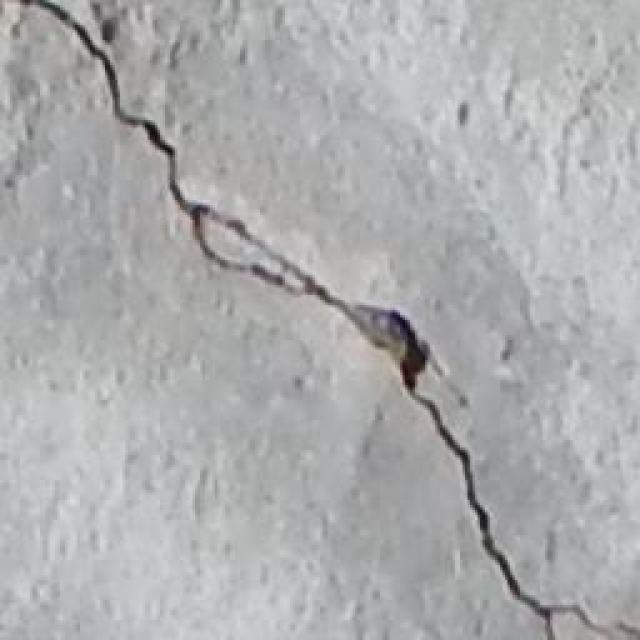concrete-crack: (25, 0, 623, 640)
